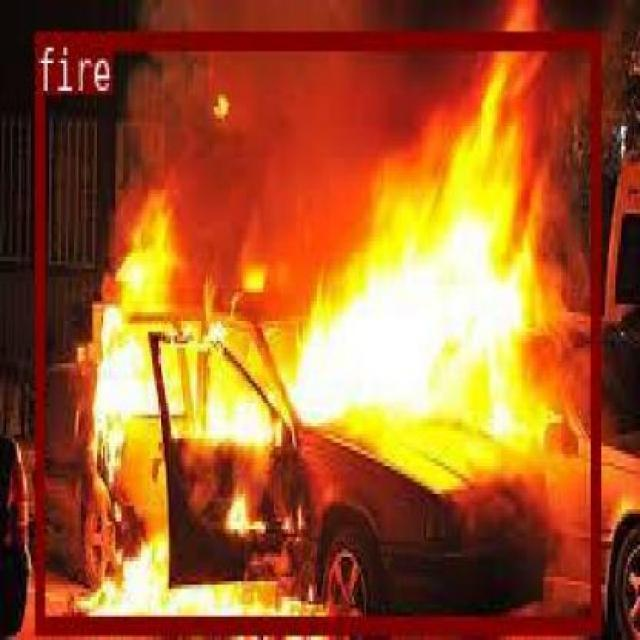Fire: (33, 28, 599, 630)
